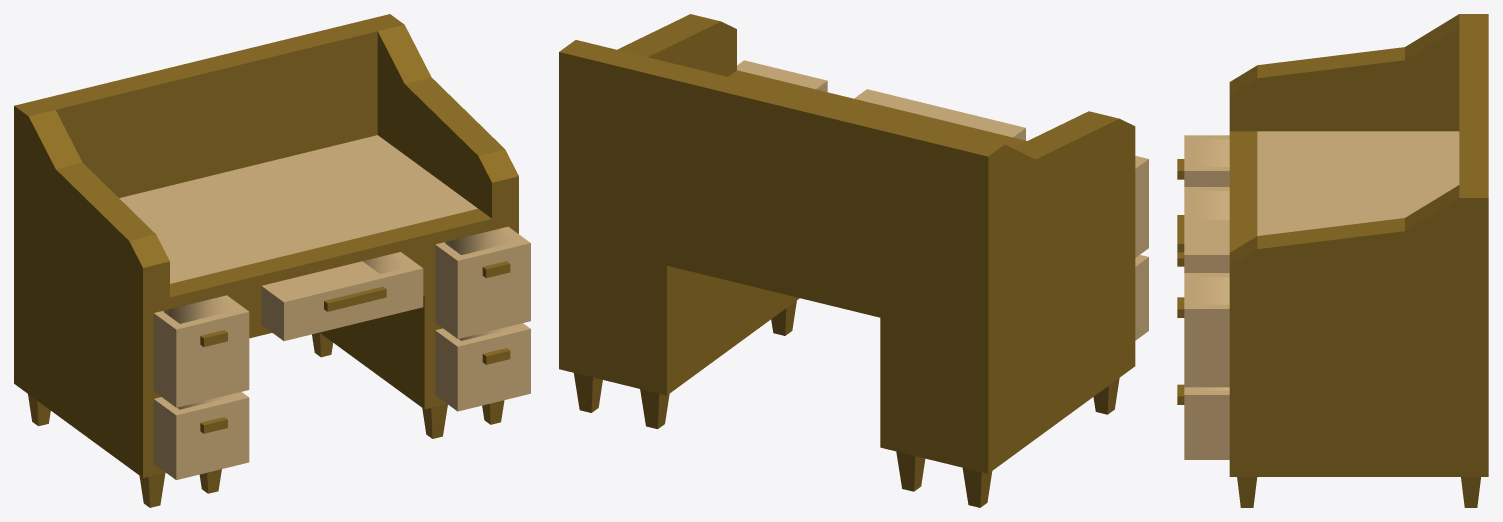
The model's file is Desk3.fbx.
3 renders of one model, left to right at view 1: azimuth 30°, elevation 25°; view 2: azimuth 150°, elevation 25°; view 3: azimuth 270°, elevation 25°, orthographic. The views are drawn at different scales.
Visible parts, largest first — view 1: Desk4, Desk3, polySurface3, polySurface2, polySurface4, polySurface1, polySurface5; view 2: Desk4, Desk3, polySurface3, polySurface2, polySurface1, polySurface4; view 3: Desk3, Desk4, polySurface4, polySurface3, polySurface5, polySurface2.
Boxes of the visible parts, box(x1,y1,x2,y2) form: Desk4: box(14, 60, 330, 507); Desk3: box(202, 14, 518, 438); polySurface3: box(261, 252, 423, 340); polySurface2: box(153, 295, 249, 407); polySurface4: box(435, 226, 530, 338); polySurface1: box(153, 392, 249, 479); polySurface5: box(435, 323, 530, 411); Desk4: box(773, 92, 1135, 507); Desk3: box(559, 14, 920, 429); polySurface3: box(854, 89, 1025, 140); polySurface2: box(1135, 156, 1148, 257); polySurface1: box(1135, 255, 1148, 340); polySurface4: box(737, 60, 827, 92); Desk3: box(1229, 106, 1488, 507); Desk4: box(1229, 14, 1488, 210); polySurface4: box(1177, 273, 1229, 387); polySurface3: box(1177, 187, 1229, 272); polySurface5: box(1177, 384, 1229, 459); polySurface2: box(1177, 135, 1229, 186).
Bounding box in the file's own units: 176 × 141 × 126.
